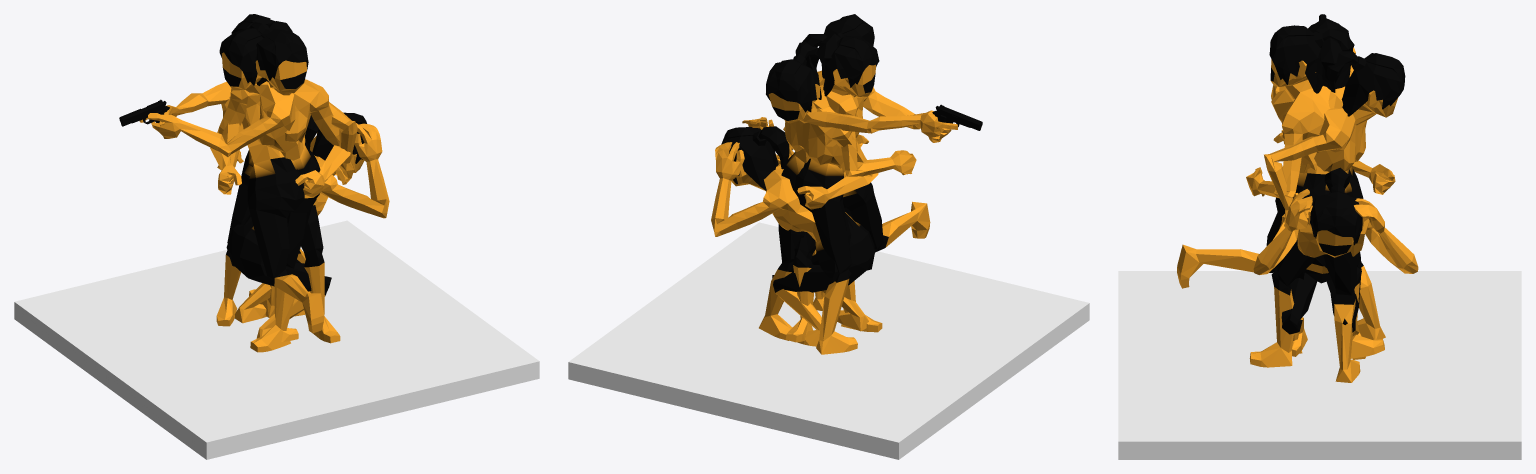
Rendered from Ladies.glb.
3 views of the same model, side by side, from view 1: azimuth 30°, elevation 25°; view 2: azimuth 150°, elevation 25°; view 3: azimuth 270°, elevation 25° (orthographic). The views are drawn at different scales.
Visible parts, largest first — view 1: SM_Buildings_Floor_1x1_01 (3), SM_Buildings_Floor_1x1_01 (1), SM_Buildings_Floor_1x1_01 (2), SM_Pawn_Idle_Female_01, SM_Pawn_Weapon_Female_02, SM_Pawn_Run_Female_01, SM_Buildings_Floor_1x1_01, SM_Pawn_Cower_Female_01; view 2: SM_Buildings_Floor_1x1_01 (2), SM_Buildings_Floor_1x1_01, SM_Buildings_Floor_1x1_01 (3), SM_Pawn_Cower_Female_01, SM_Pawn_Run_Female_01, SM_Pawn_Weapon_Female_02, SM_Pawn_Idle_Female_01, SM_Buildings_Floor_1x1_01 (1); view 3: SM_Buildings_Floor_1x1_01 (1), SM_Buildings_Floor_1x1_01, SM_Buildings_Floor_1x1_01 (3), SM_Buildings_Floor_1x1_01 (2), SM_Pawn_Run_Female_01, SM_Pawn_Idle_Female_01, SM_Pawn_Cower_Female_01, SM_Pawn_Weapon_Female_02.
Boxes of the visible parts, x1,y1,x2,y2 form: SM_Buildings_Floor_1x1_01 (3): (110, 336, 373, 459); SM_Buildings_Floor_1x1_01 (1): (290, 291, 539, 419); SM_Buildings_Floor_1x1_01 (2): (14, 261, 264, 388); SM_Pawn_Idle_Female_01: (210, 22, 350, 343); SM_Pawn_Weapon_Female_02: (119, 21, 320, 352); SM_Pawn_Run_Female_01: (217, 14, 357, 333); SM_Buildings_Floor_1x1_01: (181, 220, 443, 328); SM_Pawn_Cower_Female_01: (226, 112, 389, 341); SM_Buildings_Floor_1x1_01 (2): (733, 336, 994, 459); SM_Buildings_Floor_1x1_01: (568, 292, 815, 419); SM_Buildings_Floor_1x1_01 (3): (834, 262, 1089, 389); SM_Pawn_Cower_Female_01: (711, 117, 874, 346); SM_Pawn_Run_Female_01: (766, 41, 930, 342); SM_Pawn_Weapon_Female_02: (759, 34, 982, 340); SM_Pawn_Idle_Female_01: (783, 14, 916, 354); SM_Buildings_Floor_1x1_01 (1): (664, 222, 923, 328); SM_Buildings_Floor_1x1_01 (1): (1118, 356, 1319, 459); SM_Buildings_Floor_1x1_01: (1320, 356, 1521, 459); SM_Buildings_Floor_1x1_01 (3): (1118, 271, 1319, 356); SM_Buildings_Floor_1x1_01 (2): (1320, 271, 1521, 356); SM_Pawn_Run_Female_01: (1177, 51, 1405, 358); SM_Pawn_Idle_Female_01: (1246, 25, 1385, 367); SM_Pawn_Cower_Female_01: (1253, 167, 1418, 359); SM_Pawn_Weapon_Female_02: (1271, 14, 1367, 382).
Size of the model in its own units: 2 by 1.88 by 2.
Materials: 2 (1 with a texture image).
